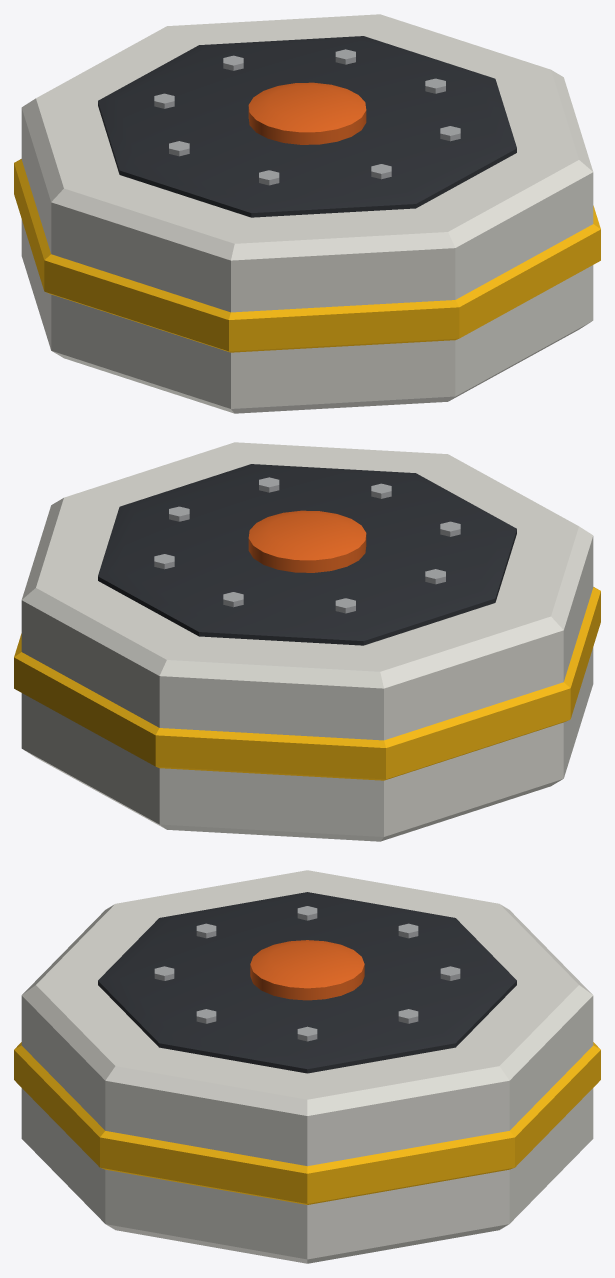
File: probe_core.glb
3 renders of one model, top to bottom at view 1: azimuth 30°, elevation 25°; view 2: azimuth 150°, elevation 25°; view 3: azimuth 270°, elevation 25°, orthographic. The views are drawn at different scales.
Visible parts, largest first — view 1: Body.002, Lid.001, Band.004, Eye, Lights; view 2: Body.002, Lid.001, Band.004, Eye, Lights; view 3: Body.002, Lid.001, Band.004, Eye, Lights.
Part boxes in pixels (x1,y1,x2,y2): Body.002: (21,14,593,413); Lid.001: (98,36,516,217); Band.004: (14,159,600,352); Eye: (248,82,366,144); Lights: (154,49,460,185); Body.002: (21,442,593,841); Lid.001: (98,464,516,645); Band.004: (14,587,600,780); Eye: (248,510,366,572); Lights: (154,477,460,613); Body.002: (21,870,593,1263); Lid.001: (98,892,516,1073); Band.004: (14,1042,600,1204); Eye: (250,940,364,1000); Lights: (154,906,460,1041).
Size of the model in its own units: 0.616 by 0.22 by 0.616.
